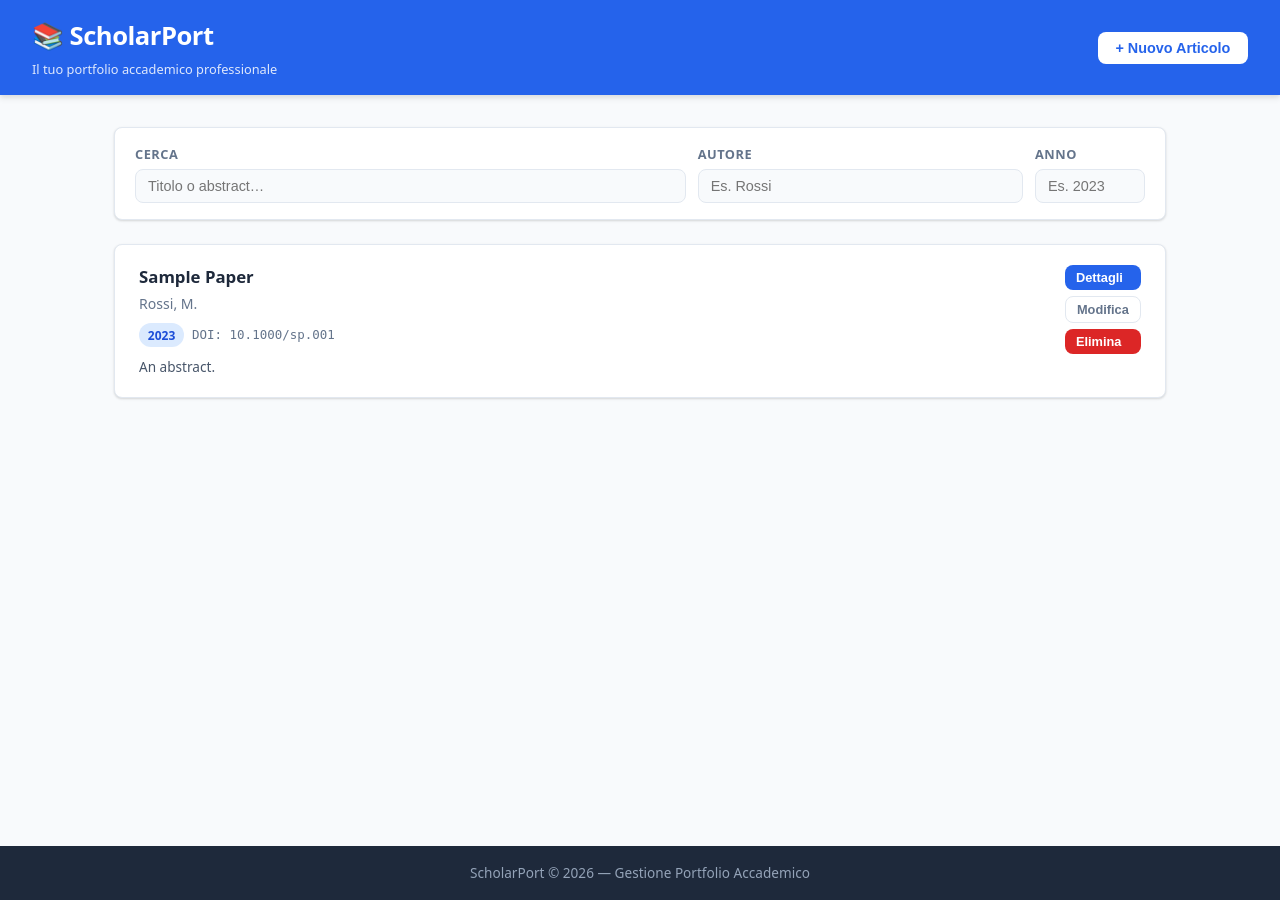
App navigation › 5. navigates to edit form when Modifica is clicked
The width and height of the screenshot is (1280, 900).
Check: the heading "Sample Paper" is shown, box [139,265,254,288]
Click the button named "modifica sample paper" at (1103, 310), box [1065,296,1141,323]
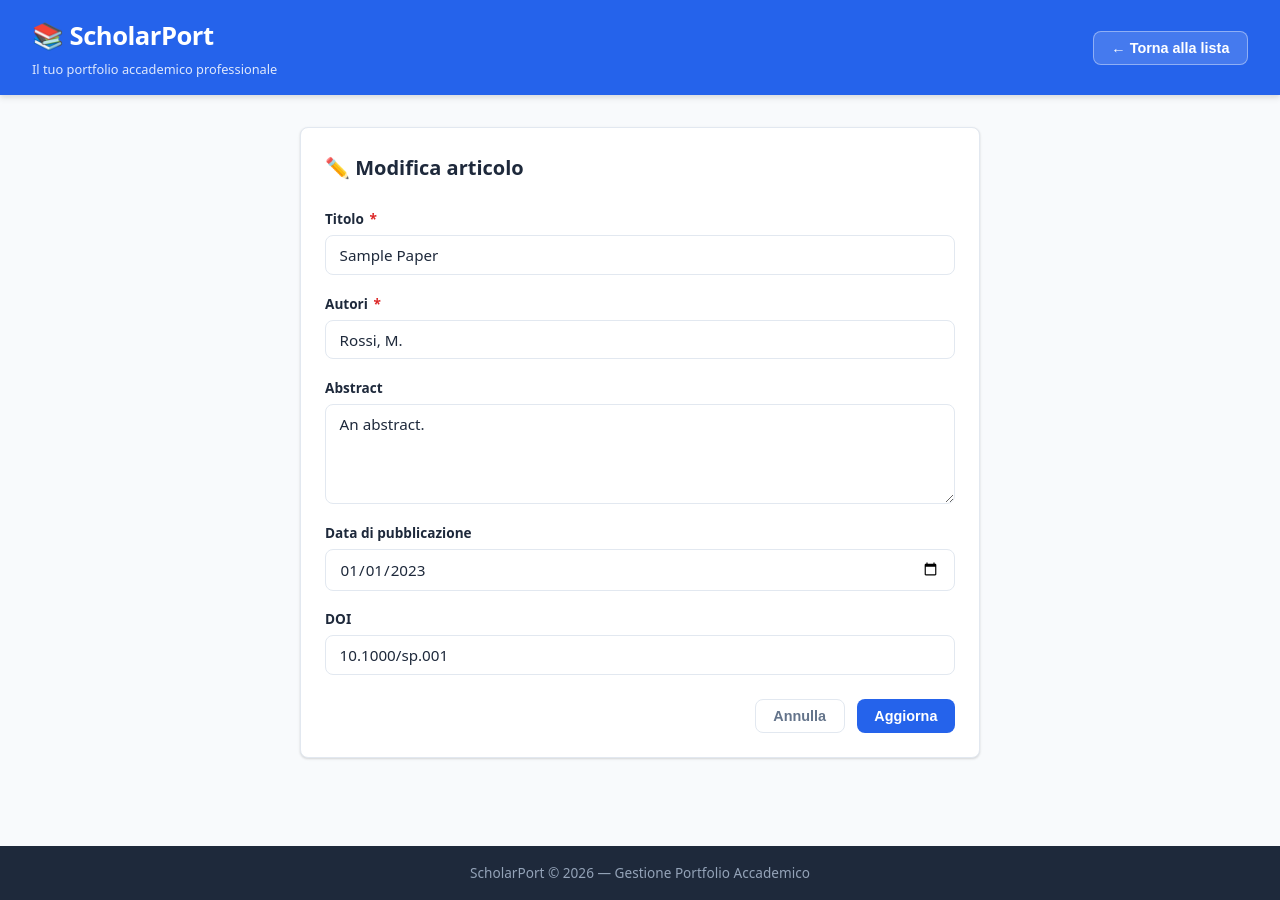
Check: the heading "✏️ Modifica articolo" is shown, box [325,154,524,181]
Check: the field labelled "Titolo *" holds "Sample Paper", box [325,235,955,275]
